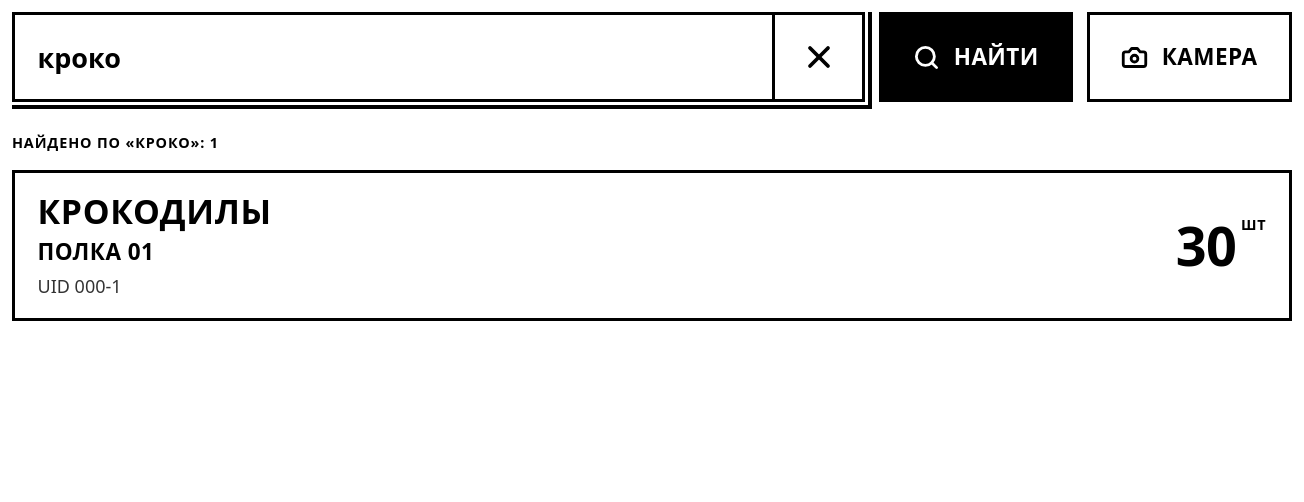
it: search screen › lists several matches of a code instead of guessing
Replace the text in the search field with id "search" with "4600000000017" at [394, 57], box left=15, top=15, right=772, bottom=99
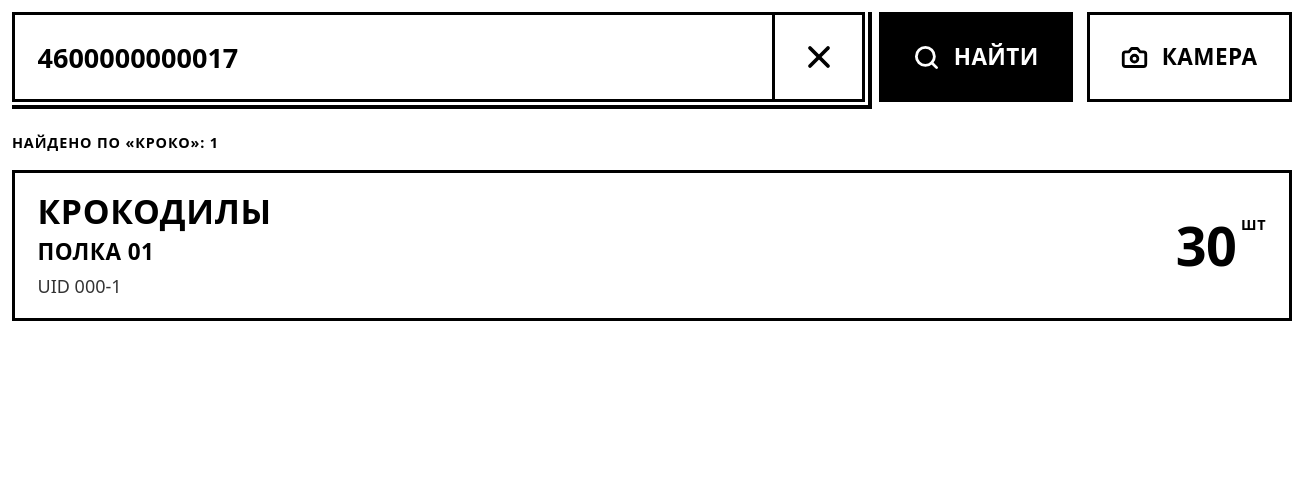
Submit the form, box left=12, top=12, right=1292, bottom=102
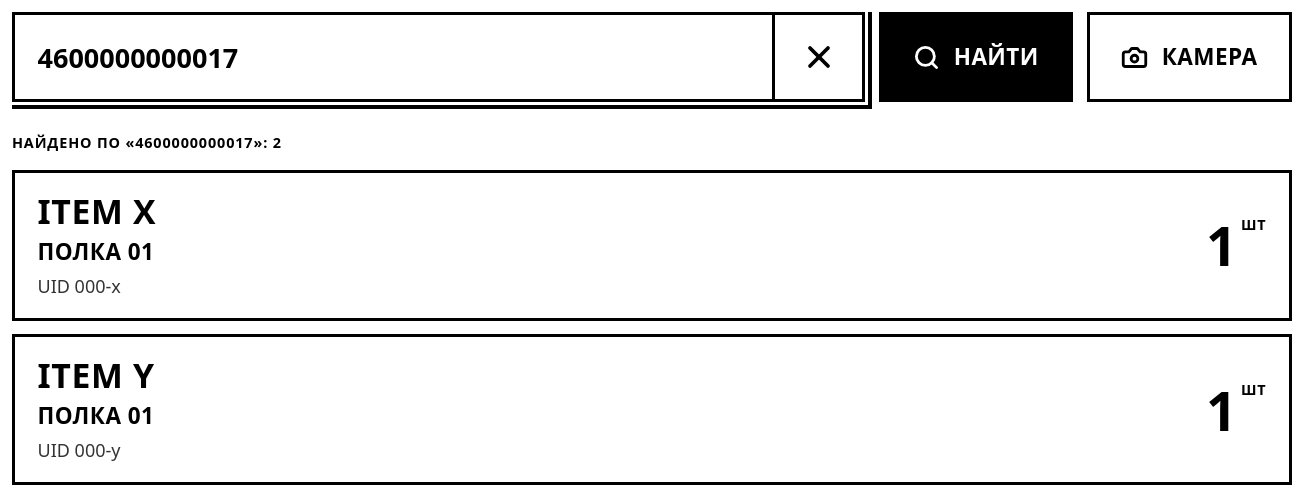
Check: the number of links is 2, box left=12, top=170, right=1292, bottom=320; left=12, top=334, right=1292, bottom=485
